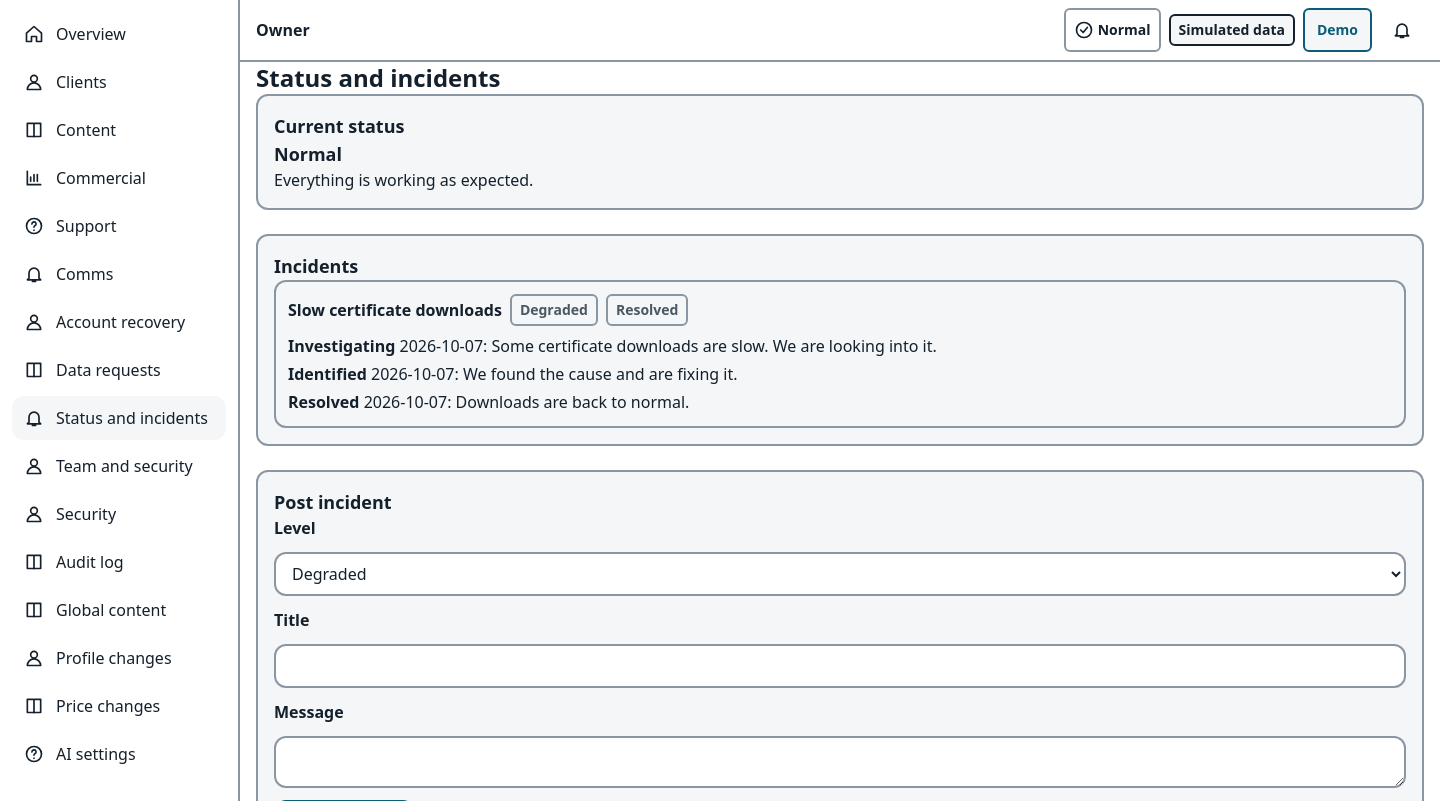
Test case: P17 Status and incidents › posts a Degraded incident and the status becomes Degraded
Expected: the heading "Status and incidents" is shown, [256, 62, 500, 94]
Select "Degraded" in the dropdown labelled "Level" at (840, 574), box [274, 552, 1406, 596]
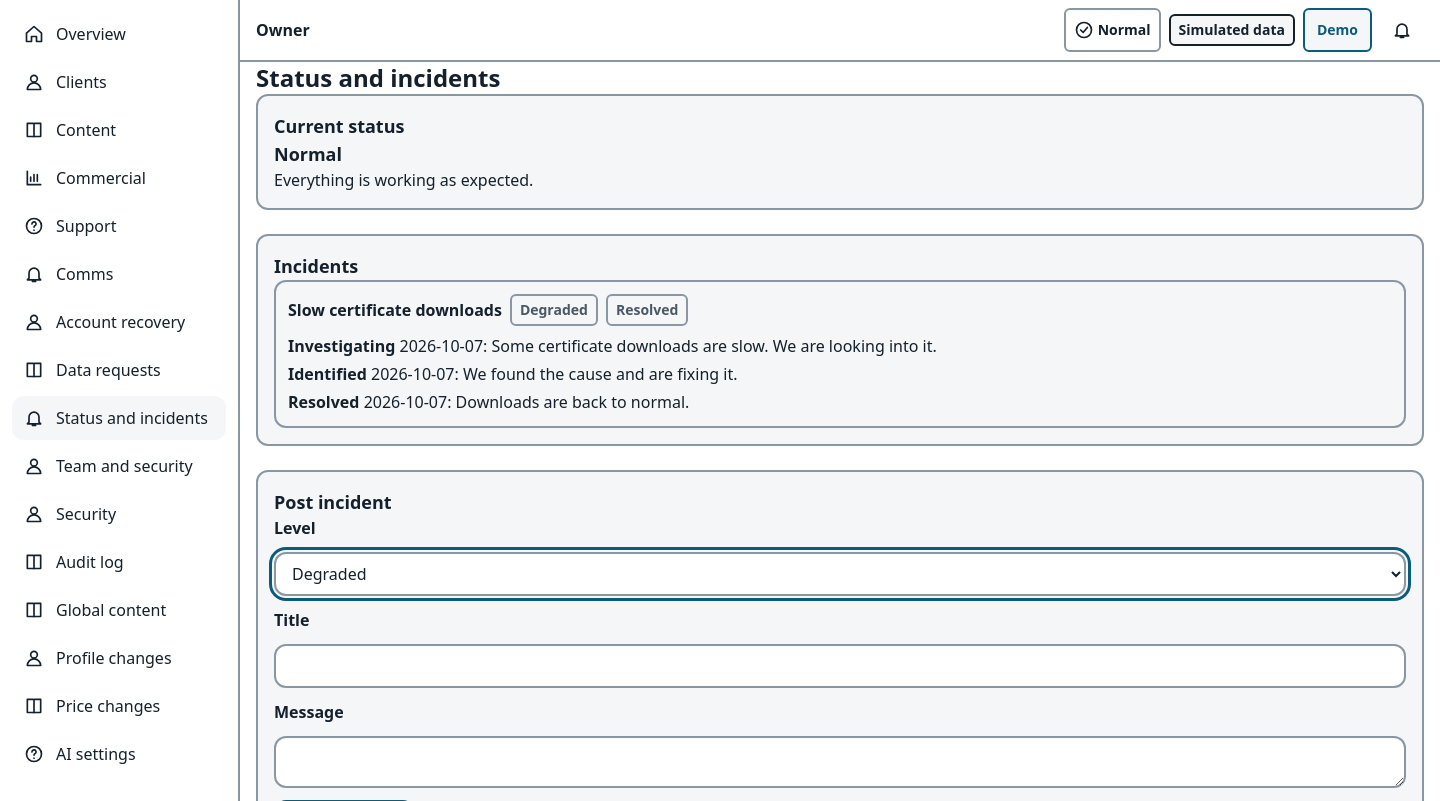
Type "Slow pages" into the field labelled "Title" at (840, 666), box [274, 644, 1406, 688]
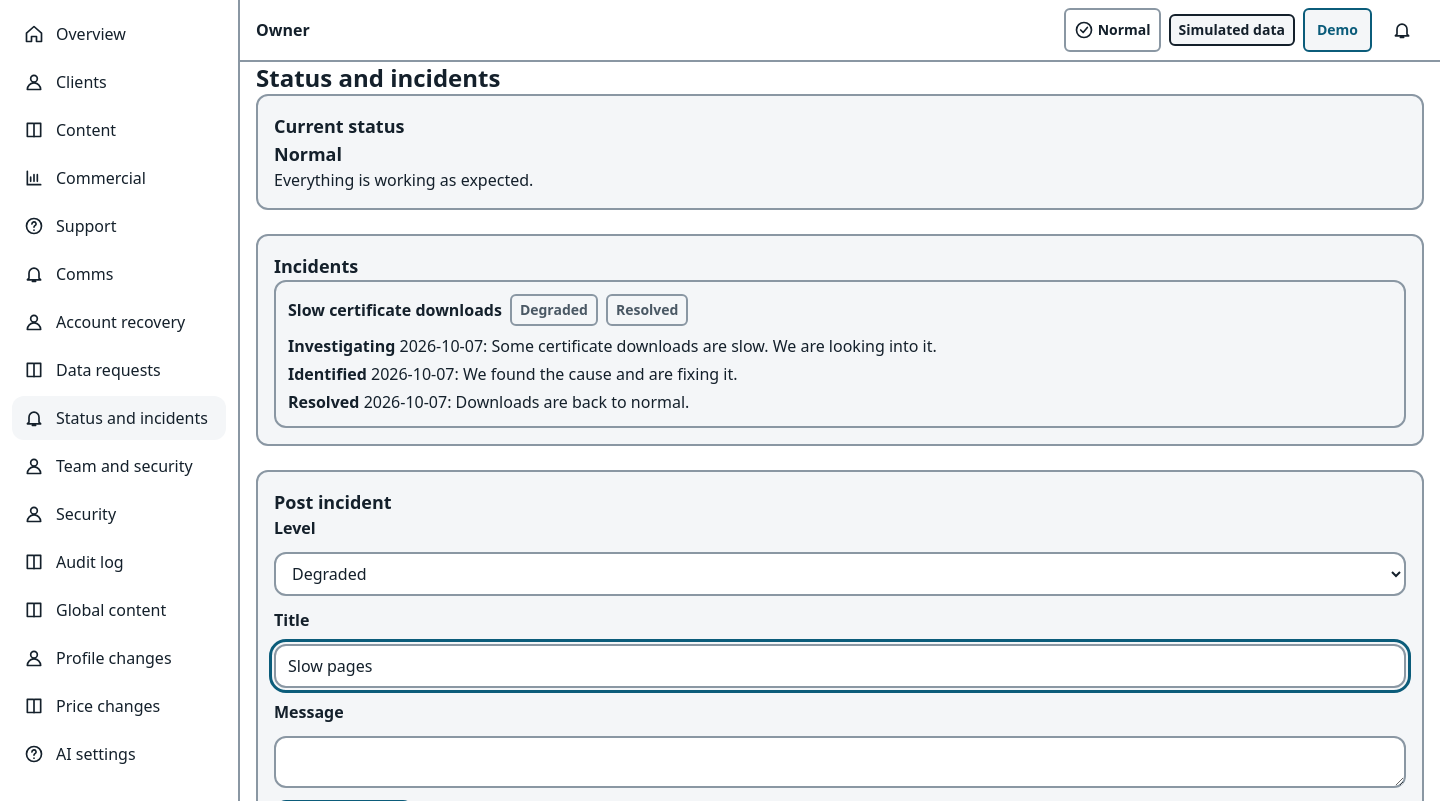
Type "Pages are slow." into the text box labelled "Message" at (840, 762), box [274, 736, 1406, 788]
(page scrolled)
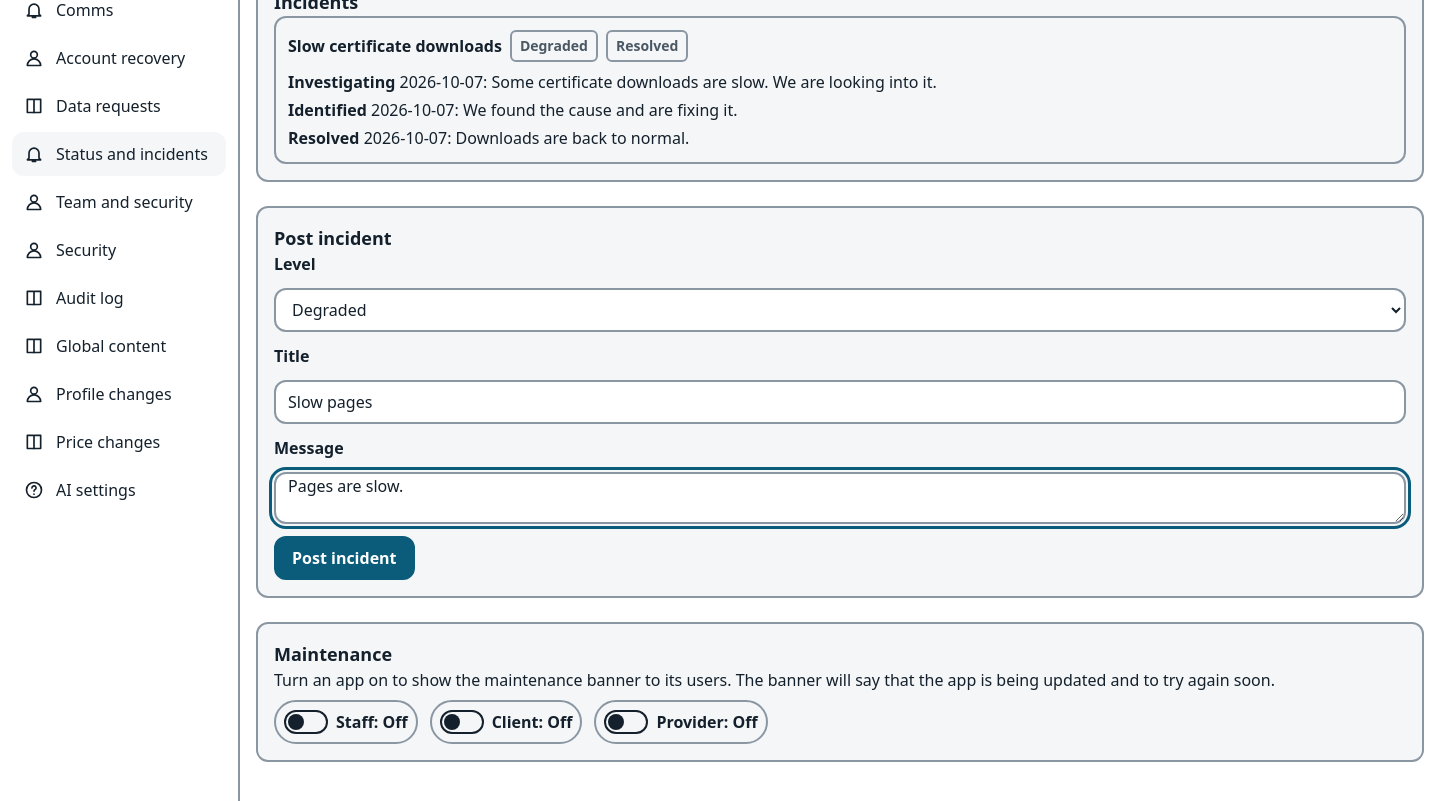
Click the button "Post incident" at (344, 558), box [274, 536, 414, 580]
(page scrolled)
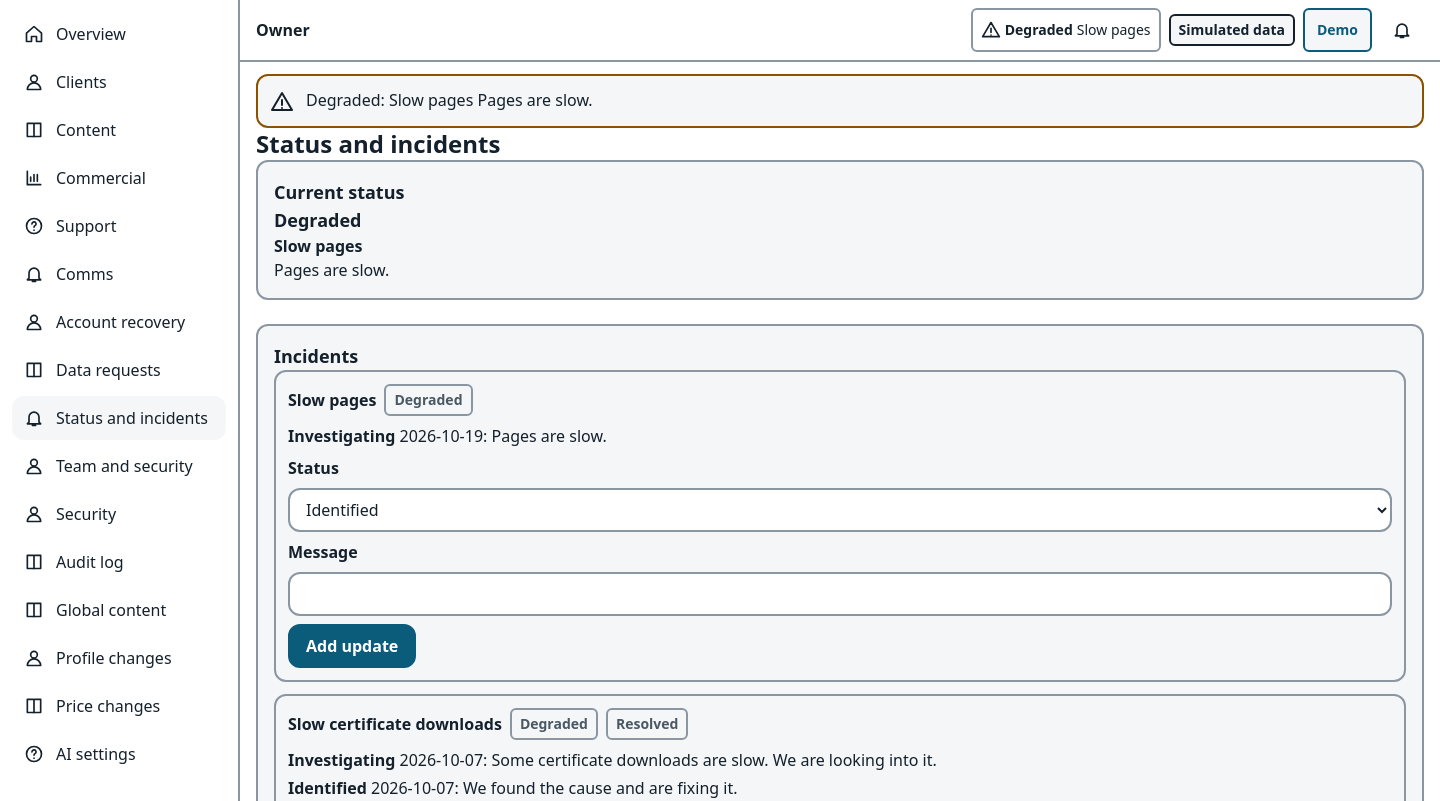
Expected: the element "Current status" shows "Degraded", [274, 208, 362, 232]
Expected: the element "Current status" shows "Slow pages", [274, 235, 362, 257]
